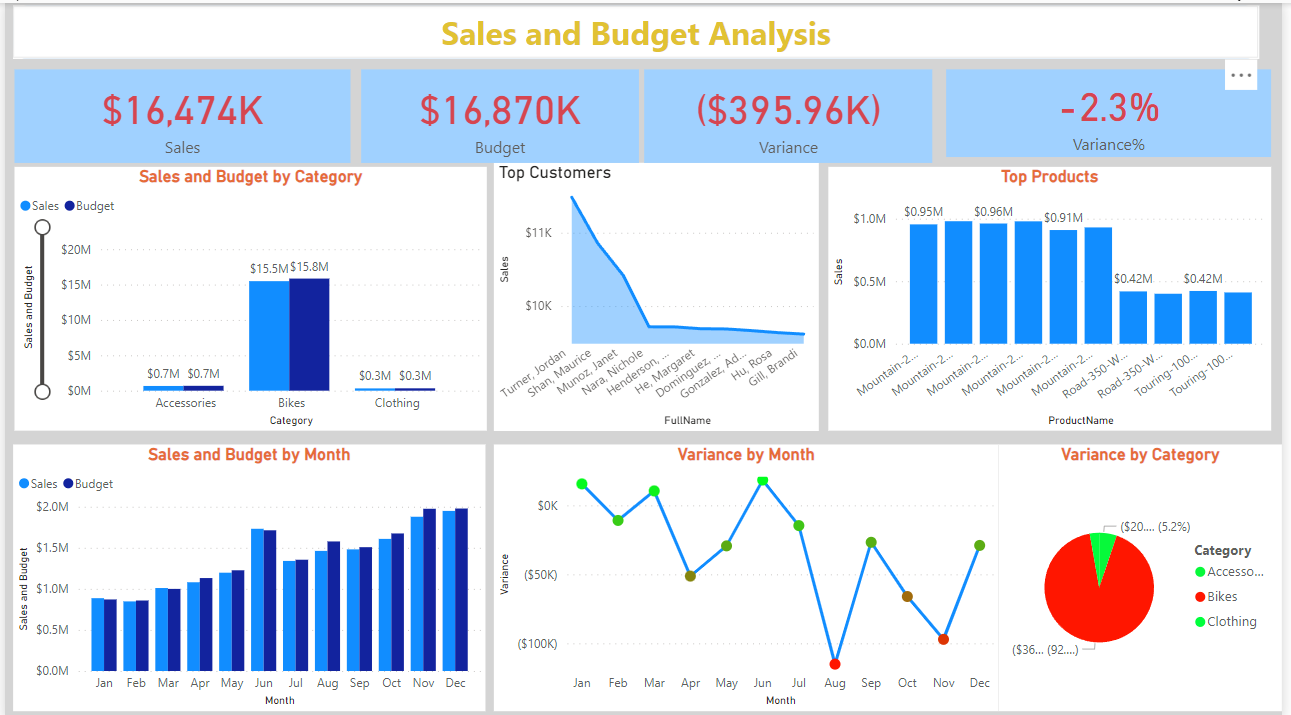

What the dashboard file says about the page in this screenshot:
{"tool":"powerbi","page":{"name":"Sales and Budget","canvas":[1280,720],"ordinal":0},"visuals":[{"type":"textbox","box":[0,0,1268.9,55.6],"z":0},{"type":"clusteredColumnChart","fields":{"Category":["Product.Category","Product.SubCategory"],"Y":["Sales.Sales","Budget.Budget"]},"box":[9.5,164.2,473.6,264.6],"z":1000},{"type":"clusteredColumnChart","title":"Top Products","fields":{"Category":["Product.ProductName"],"Y":["Sales.Sales"]},"box":[825.1,164.2,443.8,264.6],"z":2000},{"type":"stackedAreaChart","title":"Top Customers","fields":{"Category":["Customer.FullName"],"Y":["Sales.Sales"]},"box":[489.9,160.1,325.7,268.7],"z":3000},{"type":"card","fields":{"Values":["Budget.Variance%"]},"box":[943.2,66.5,325.7,88.2],"z":4000},{"type":"card","fields":{"Values":["Budget.Variance"]},"box":[640.5,66.5,289.1,93.6],"z":5000},{"type":"card","fields":{"Values":["Budget.Budget"]},"box":[356.9,66.5,278.2,93.6],"z":6000},{"type":"card","fields":{"Values":["Sales.Sales"]},"box":[9.5,66.5,336.6,93.6],"z":7000},{"type":"pieChart","fields":{"Category":["Product.Category","Product.SubCategory"],"Y":["Budget.Variance"]},"box":[996.1,442.4,283.6,267.3],"z":8000},{"type":"lineClusteredColumnComboChart","fields":{"Category":["Calendar.Month"],"Y":["Sales.Sales","Budget.Budget"]},"box":[8.1,442.4,473.6,267.3],"z":9000},{"type":"lineChart","fields":{"Category":["Calendar.Month"],"Y":["Budget.Variance"]},"box":[489.9,442.4,506.2,267.3],"z":10000},{"type":"shape","box":[8.1,2.7,1248.5,52.9],"z":10001},{"type":"textbox","box":[8.1,2.7,1248.5,52.9],"z":10002}]}

Visuals, with their boxes in screenshot pixels (x1, y1, x2, y2), scaled from the page's 1280x720 canvas onto the 1291x715 screenshot:
textbox: 0, 0, 1280, 55
clusteredColumnChart - Product.Category x Product.SubCategory: 10, 163, 487, 426
"Top Products" clusteredColumnChart: 832, 163, 1280, 426
"Top Customers" stackedAreaChart: 494, 159, 823, 426
card - Budget.Variance%: 951, 66, 1280, 154
card - Budget.Variance: 646, 66, 938, 159
card - Budget.Budget: 360, 66, 641, 159
card - Sales.Sales: 10, 66, 349, 159
pieChart - Product.Category x Product.SubCategory: 1005, 439, 1290, 705
lineClusteredColumnComboChart - Calendar.Month x Sales.Sales: 8, 439, 486, 705
lineChart - Calendar.Month x Budget.Variance: 494, 439, 1005, 705
shape: 8, 3, 1267, 55
textbox: 8, 3, 1267, 55
